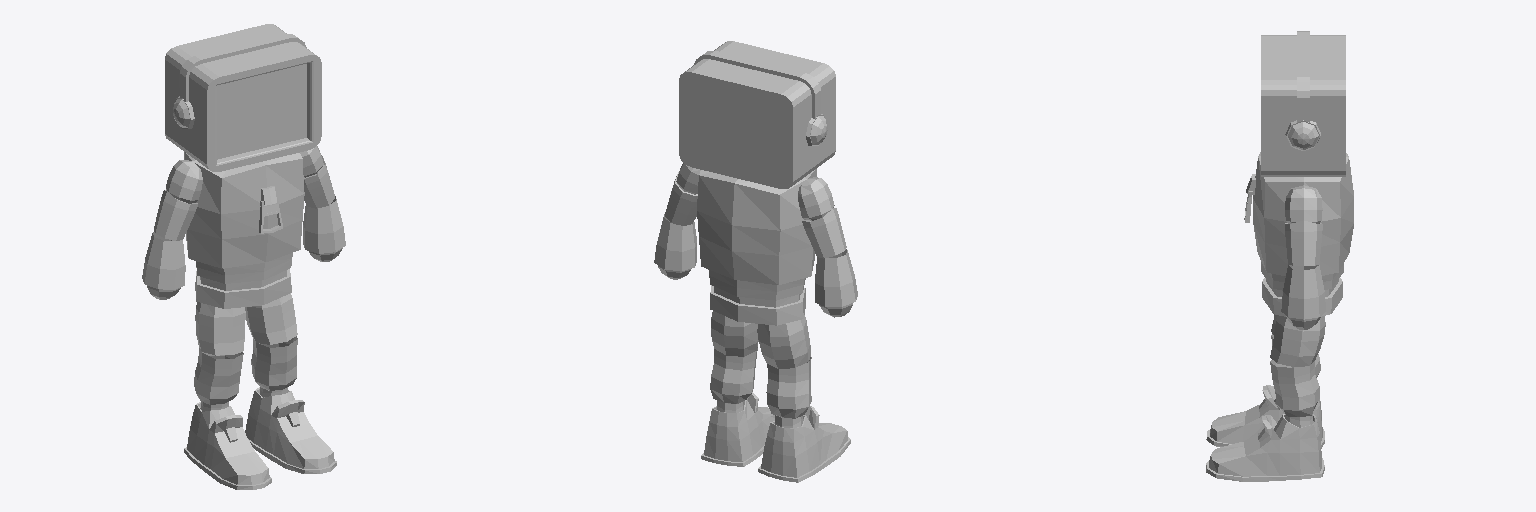
File: Character test 10001.obj
3 renders of one model, left to right at view 1: azimuth 30°, elevation 25°; view 2: azimuth 150°, elevation 25°; view 3: azimuth 270°, elevation 25°, orthographic.
Parts seen in each view (by area): view 1: Head, Body.001, Scheen_Right, Scheen_Left, Leg_Right.005, Hand_Left.001, Leg_Right.004, Arm_Right.001, Leg_Right.003, Leg_Right.002, Hand_Left, Shoulder.002 (+1 smaller); view 2: Head, Body.001, Scheen_Left, Scheen_Right, Hand_Left.001, Leg_Right.005, Leg_Right.004, Arm_Right.001, Leg_Right.003, Leg_Right.002, Hand_Left, Shoulder.002 (+1 smaller); view 3: Head, Body.001, Scheen_Right, Arm_Right.001, Scheen_Left, Leg_Right.003, Leg_Right.002, Arm_Right, Shoulder_Right.
Part boxes in pixels (bbox=[...]): Head: bbox=[165, 24, 321, 171]; Body.001: bbox=[184, 152, 304, 308]; Scheen_Right: bbox=[245, 387, 336, 473]; Scheen_Left: bbox=[184, 401, 271, 489]; Leg_Right.005: bbox=[195, 302, 245, 355]; Hand_Left.001: bbox=[142, 232, 185, 299]; Leg_Right.004: bbox=[194, 348, 243, 404]; Arm_Right.001: bbox=[303, 196, 345, 261]; Leg_Right.003: bbox=[251, 336, 297, 390]; Leg_Right.002: bbox=[245, 293, 297, 344]; Hand_Left: bbox=[154, 190, 197, 240]; Shoulder.002: bbox=[166, 160, 202, 203]; Head: bbox=[679, 41, 835, 188]; Body.001: bbox=[697, 169, 816, 325]; Scheen_Left: bbox=[758, 406, 850, 482]; Scheen_Right: bbox=[701, 392, 774, 466]; Hand_Left.001: bbox=[815, 249, 857, 317]; Leg_Right.005: bbox=[757, 315, 810, 368]; Leg_Right.004: bbox=[766, 357, 811, 418]; Arm_Right.001: bbox=[654, 214, 696, 279]; Leg_Right.003: bbox=[710, 347, 757, 403]; Leg_Right.002: bbox=[711, 311, 758, 356]; Hand_Left: bbox=[802, 208, 846, 258]; Shoulder.002: bbox=[798, 177, 834, 220]; Head: bbox=[1261, 31, 1345, 176]; Body.001: bbox=[1244, 152, 1353, 316]; Scheen_Right: bbox=[1206, 414, 1324, 481]; Arm_Right.001: bbox=[1281, 265, 1325, 329]; Scheen_Left: bbox=[1206, 385, 1324, 448]; Leg_Right.003: bbox=[1270, 360, 1319, 416]; Leg_Right.002: bbox=[1270, 315, 1325, 366]; Arm_Right: bbox=[1285, 220, 1322, 265]; Shoulder_Right: bbox=[1285, 185, 1322, 223].
Size of the model in its own units: 2.81 by 5.41 by 1.82.